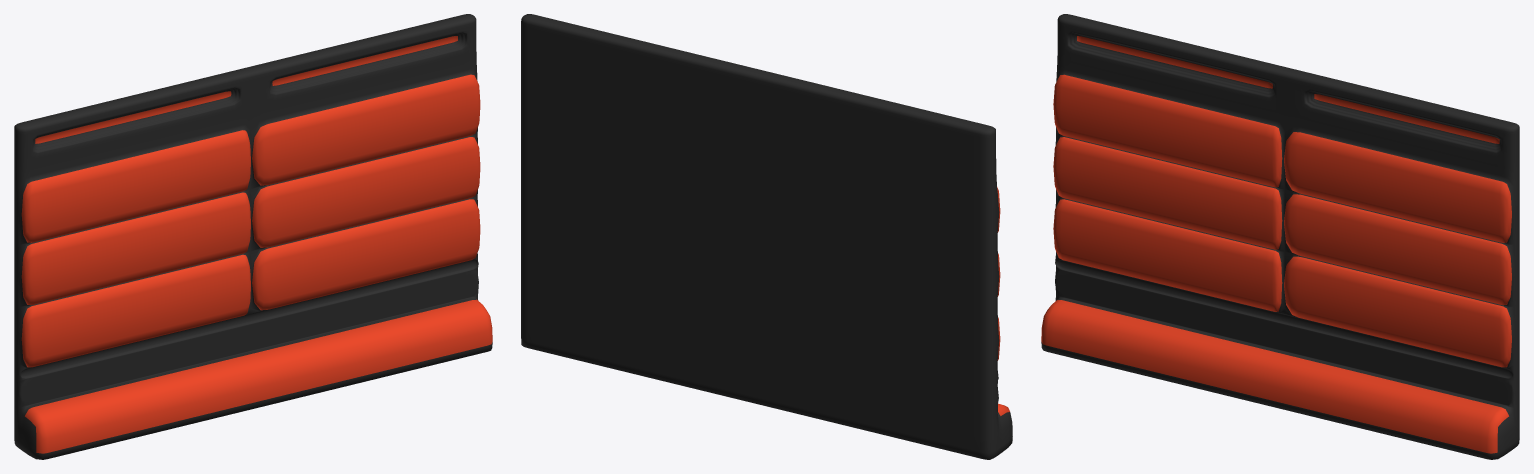
The model's file is Sci-Fi_Wall_orange_black_low_poly_res.fbx.
The picture shows the model from 3 angles, left to right: view 1: azimuth 30°, elevation 25°; view 2: azimuth 150°, elevation 25°; view 3: azimuth 330°, elevation 25°; orthographic projection. The views are drawn at different scales.
Parts seen in each view (by area): view 1: Cube; view 2: Cube; view 3: Cube.
Part boxes in pixels (box(x1,y1,x2,y2)): Cube: box(14, 14, 492, 459); Cube: box(521, 14, 1012, 459); Cube: box(1041, 14, 1519, 459).
Size of the model in its own units: 600 by 400 by 60.
